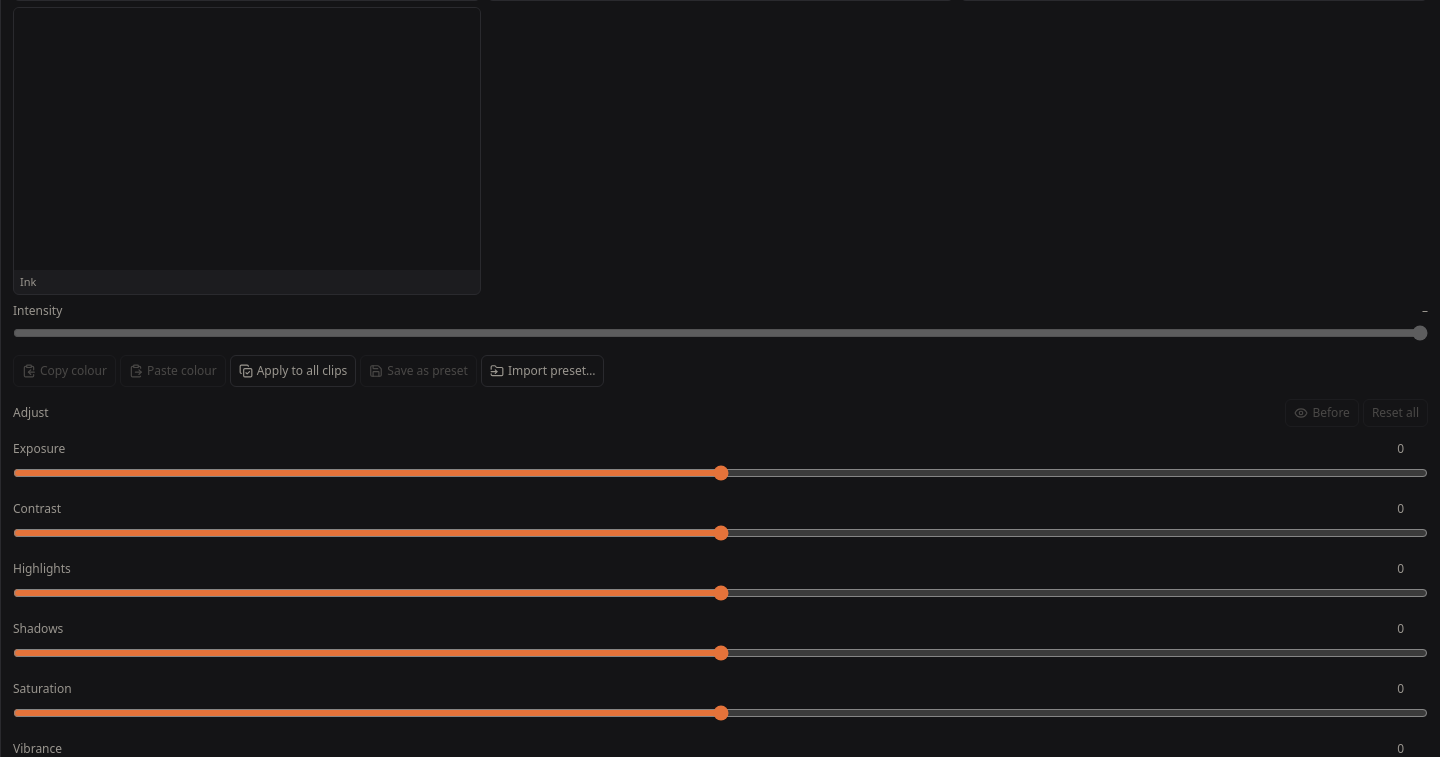
Scenario: importing colour presets › is a button in the Color tab that says what happened
The width and height of the screenshot is (1440, 757).
(page scrolled)
Click the button "Import preset…".
click(543, 371)  # box x1=481 y1=355 x2=604 y2=387
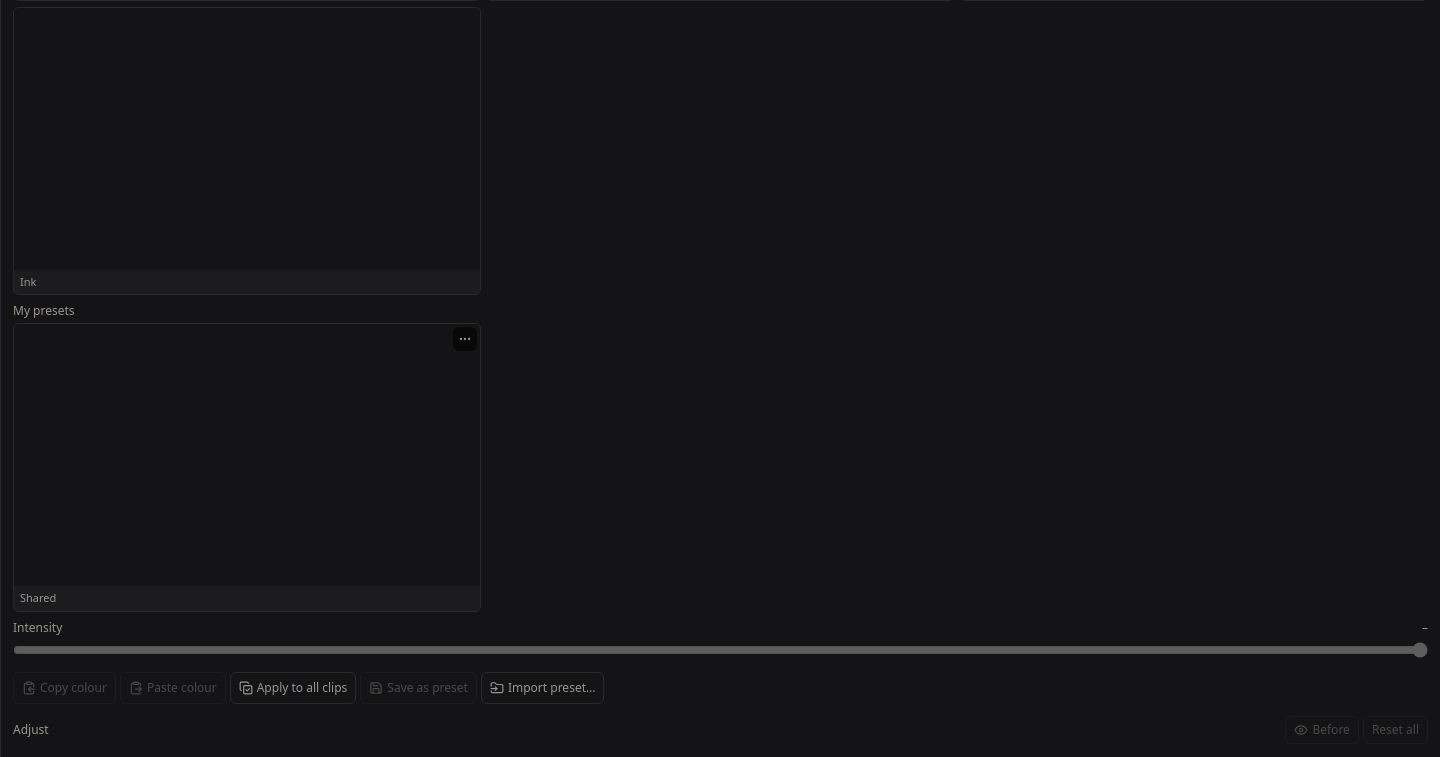
Check: the button "Shared" is shown, box x1=13 y1=323 x2=481 y2=612
